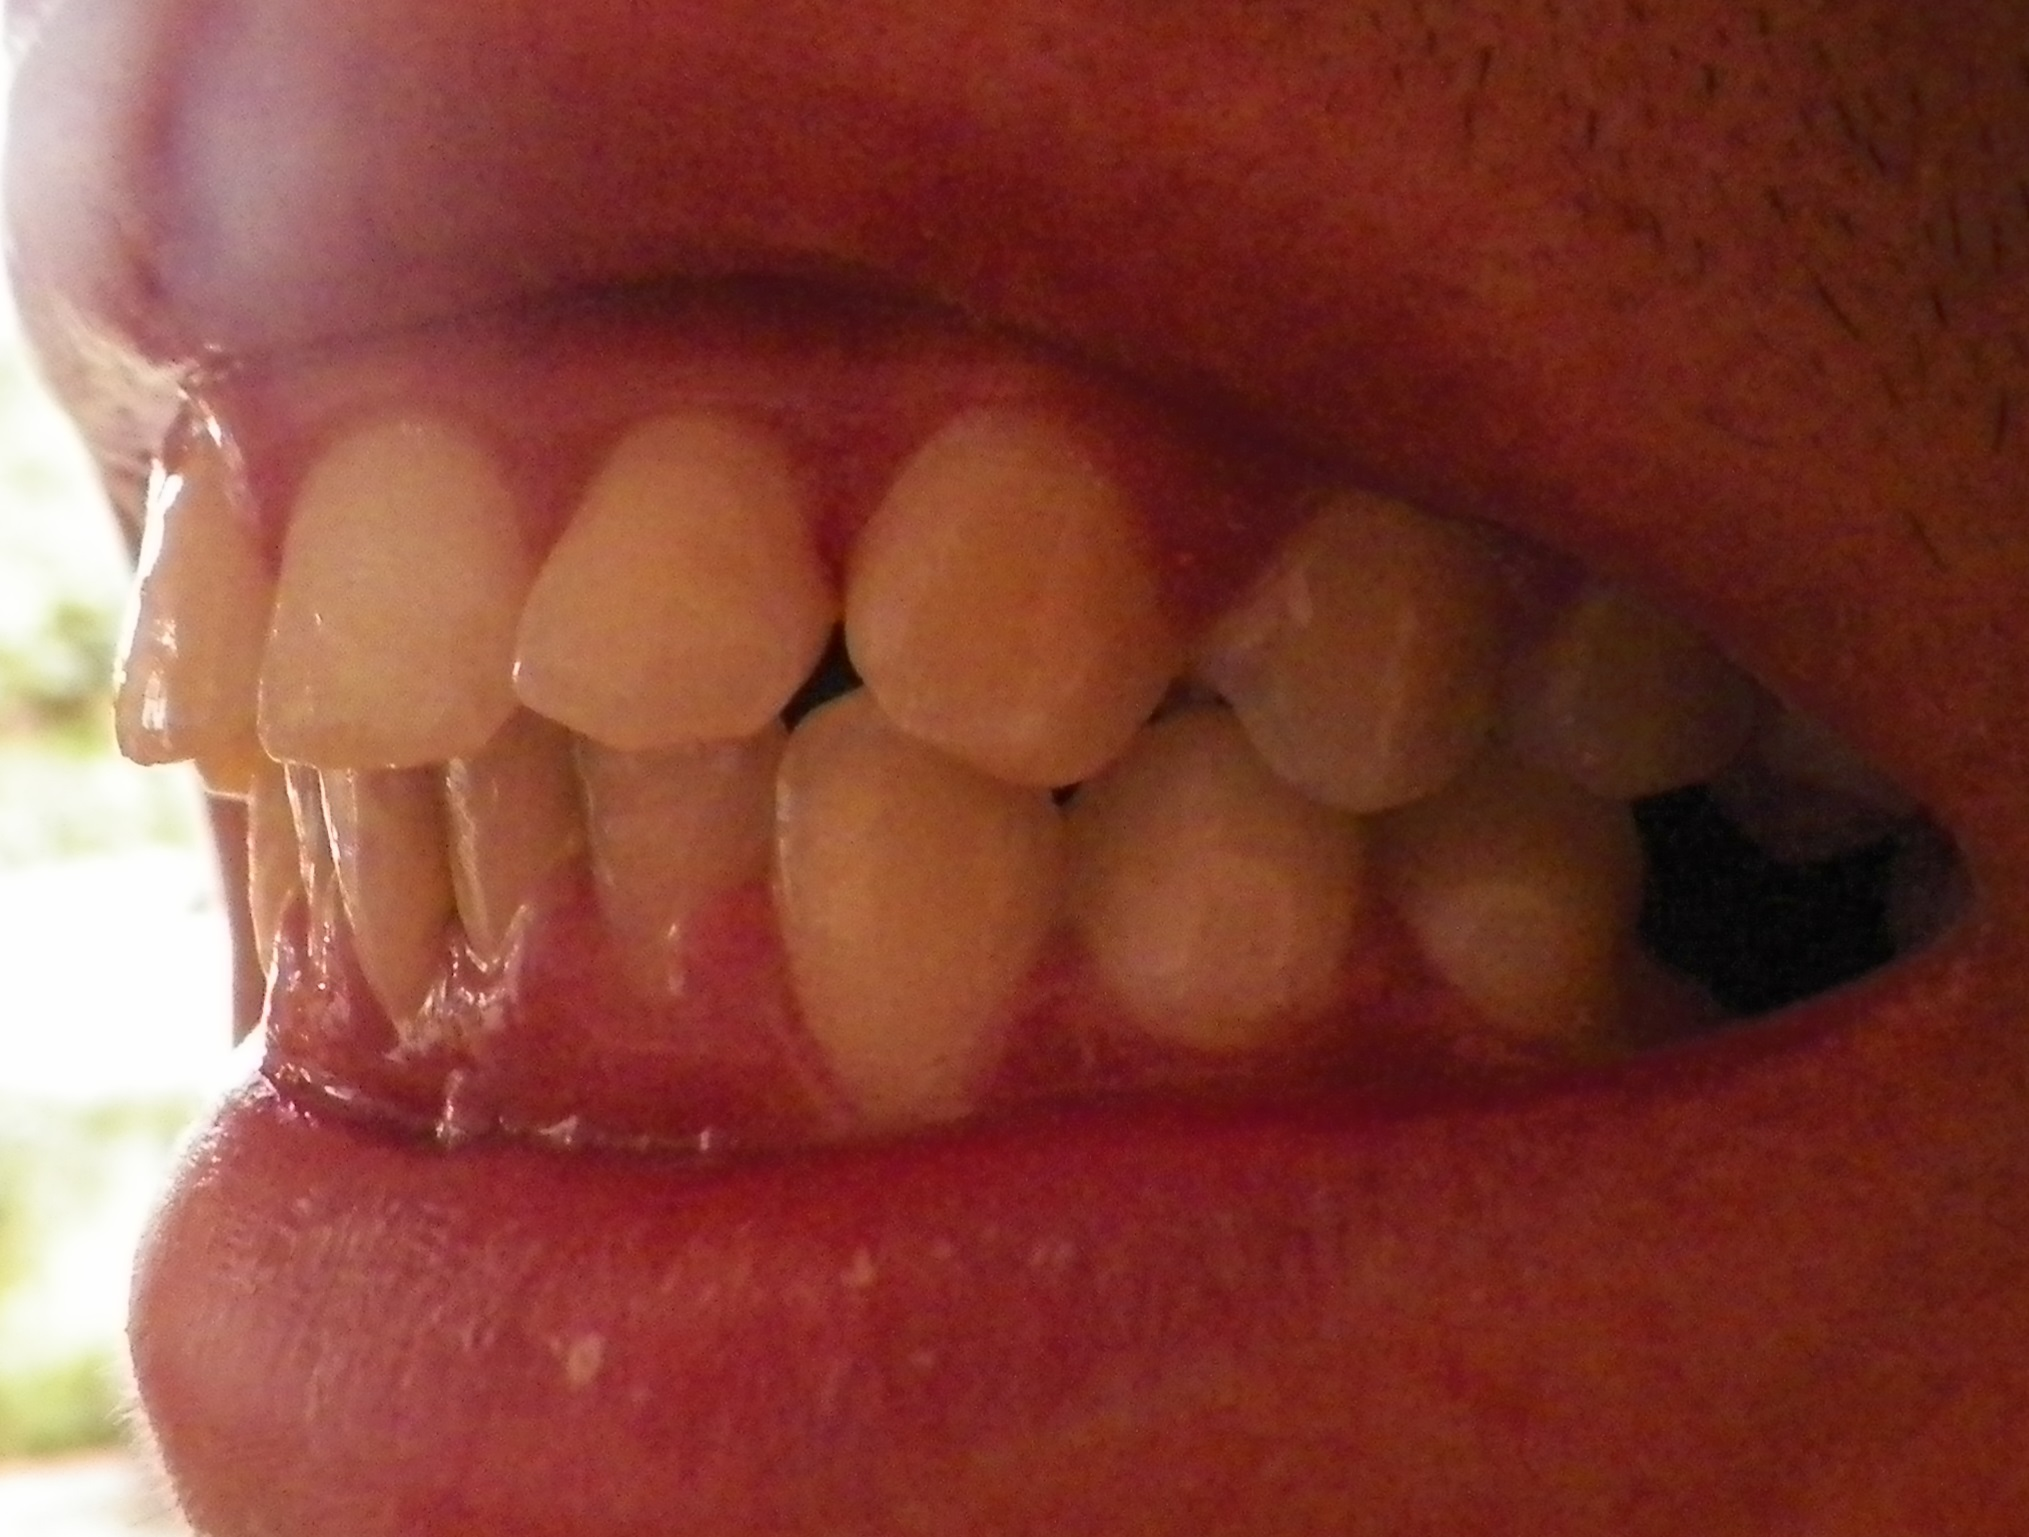boca: (116, 410, 1680, 1096)
